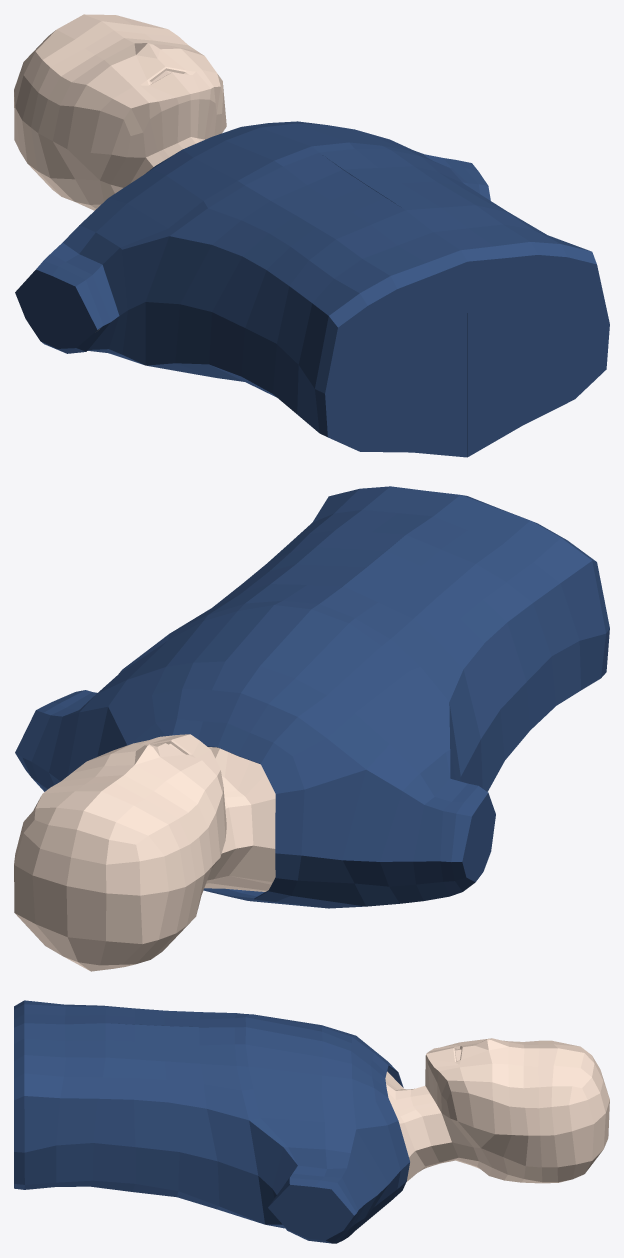
File: Dummy.fbx
3 renders of one model, top to bottom at view 1: azimuth 30°, elevation 25°; view 2: azimuth 150°, elevation 25°; view 3: azimuth 270°, elevation 25°, orthographic. The views are drawn at different scales.
Parts seen in each view (by area): view 1: Tshirt, Dummy; view 2: Tshirt, Dummy; view 3: Tshirt, Dummy.
Part boxes in pixels (x1=…): Tshirt: x1=15, y1=121, x2=609, y2=457; Dummy: x1=14, y1=14, x2=226, y2=330; Tshirt: x1=15, y1=486, x2=609, y2=908; Dummy: x1=14, y1=734, x2=275, y2=971; Tshirt: x1=14, y1=1000, x2=409, y2=1243; Dummy: x1=385, y1=1038, x2=609, y2=1183.
Bounding box in the file's own units: 1.24 × 0.6383 × 1.93.
